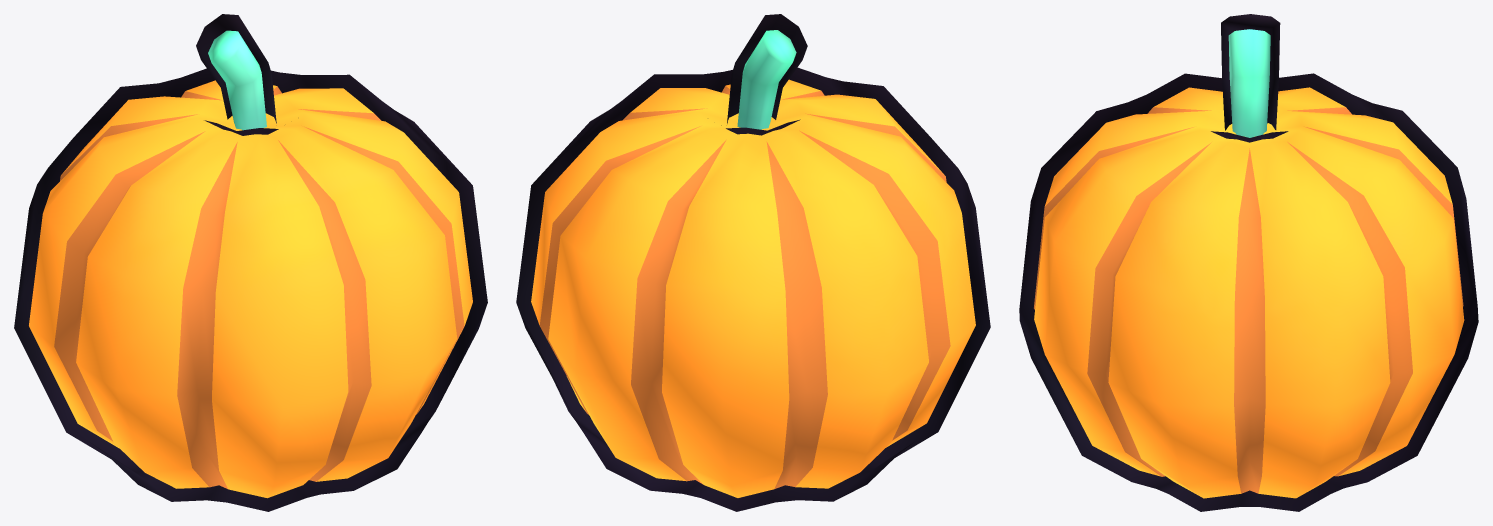
File: pumpkin.glb
The picture shows the model from 3 angles, left to right: view 1: azimuth 30°, elevation 25°; view 2: azimuth 150°, elevation 25°; view 3: azimuth 270°, elevation 25°; orthographic projection.
Parts seen in each view (by area): view 1: Pumpkin; view 2: Pumpkin; view 3: Pumpkin.
Boxes of the visible parts, x1=… form: Pumpkin: x1=14, y1=14, x2=487, y2=511; Pumpkin: x1=516, y1=14, x2=990, y2=511; Pumpkin: x1=1019, y1=14, x2=1478, y2=511.
Bounding box in the file's own units: 0.3848 × 0.4104 × 0.387.
1 material, 1 textured.
